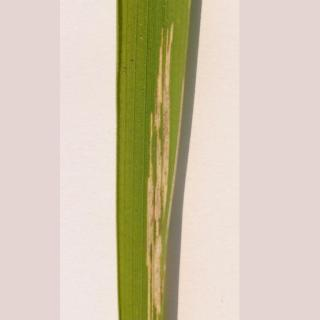Hawar-Daun: (131, 27, 181, 320)
